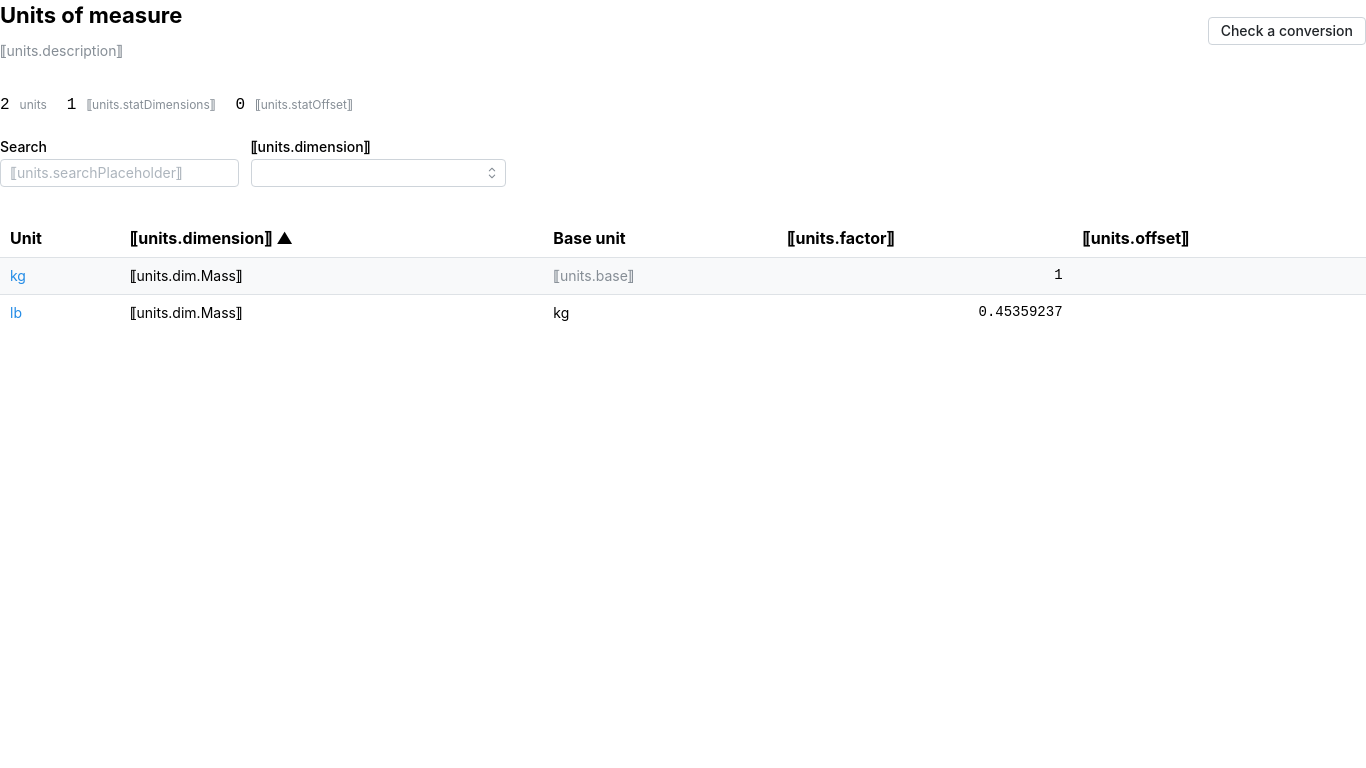
Test case: UnitsPage: видалення одиниці (BE-15) › без права Uom.EditCatalog кнопки видалення немає
Click the button "lb" at [16, 313], box top-left (10, 303), bottom-right (22, 323)
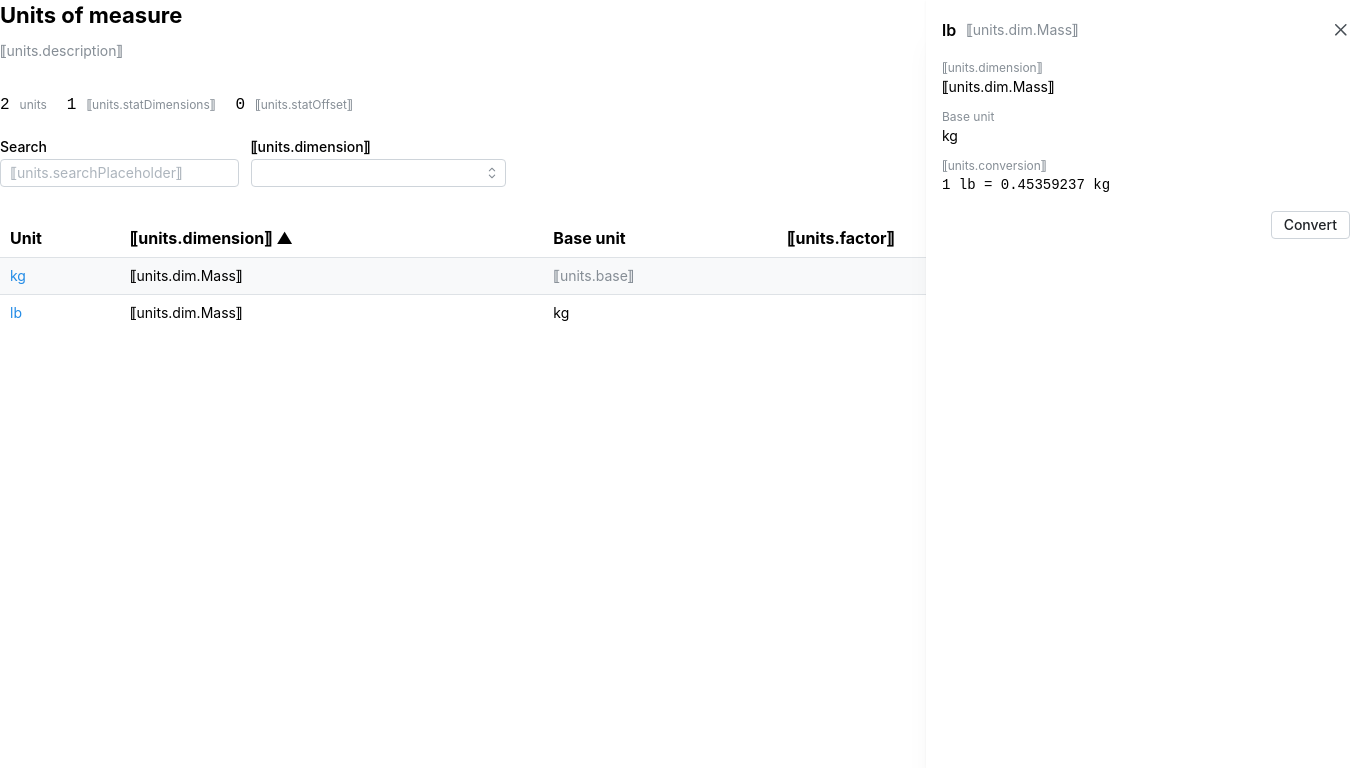
Expected: the button "Convert" is shown, top-left (1271, 211), bottom-right (1350, 239)
